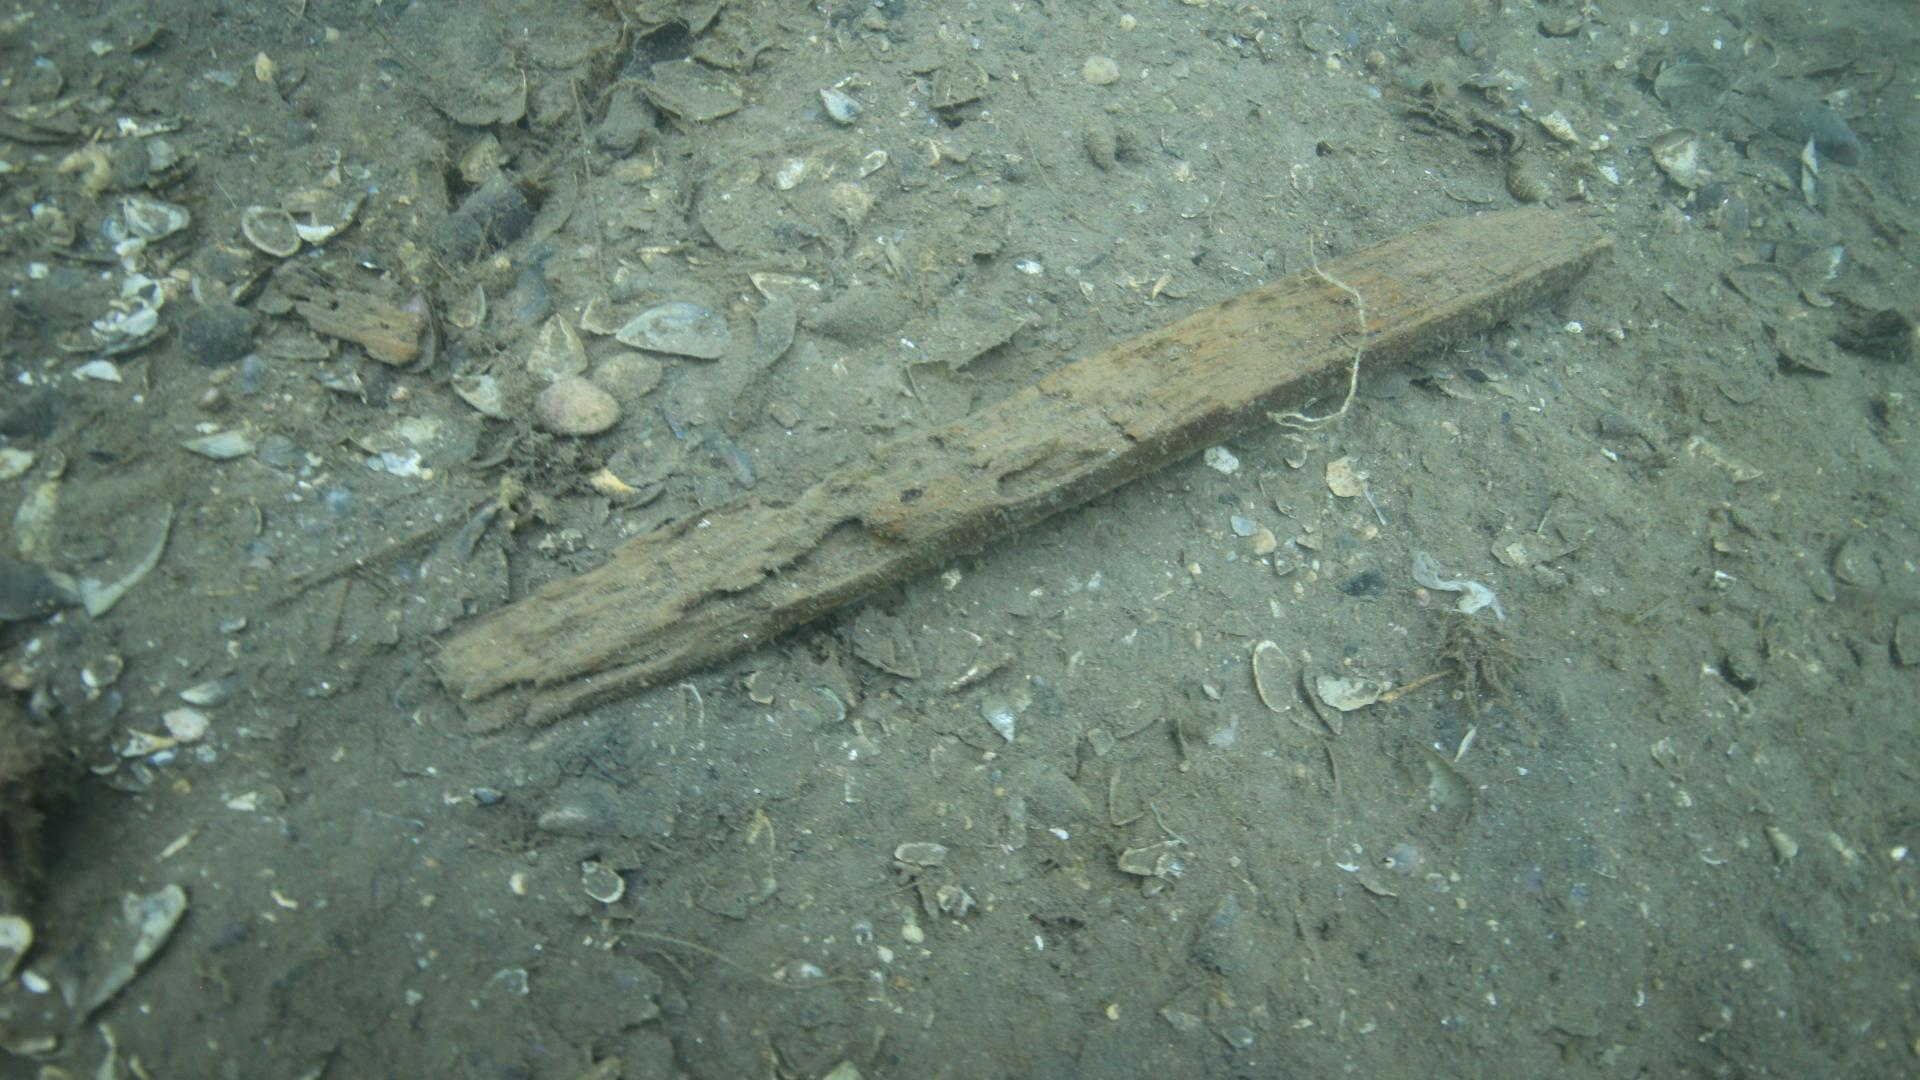wood: (430, 206, 1613, 753)
